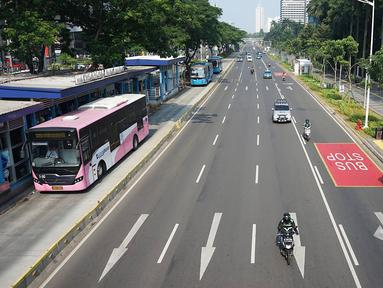car: (23, 93, 150, 193), (189, 63, 212, 87), (272, 99, 291, 125), (209, 55, 224, 72), (264, 70, 272, 80)
motorbike: (276, 213, 297, 267), (303, 119, 312, 142)
